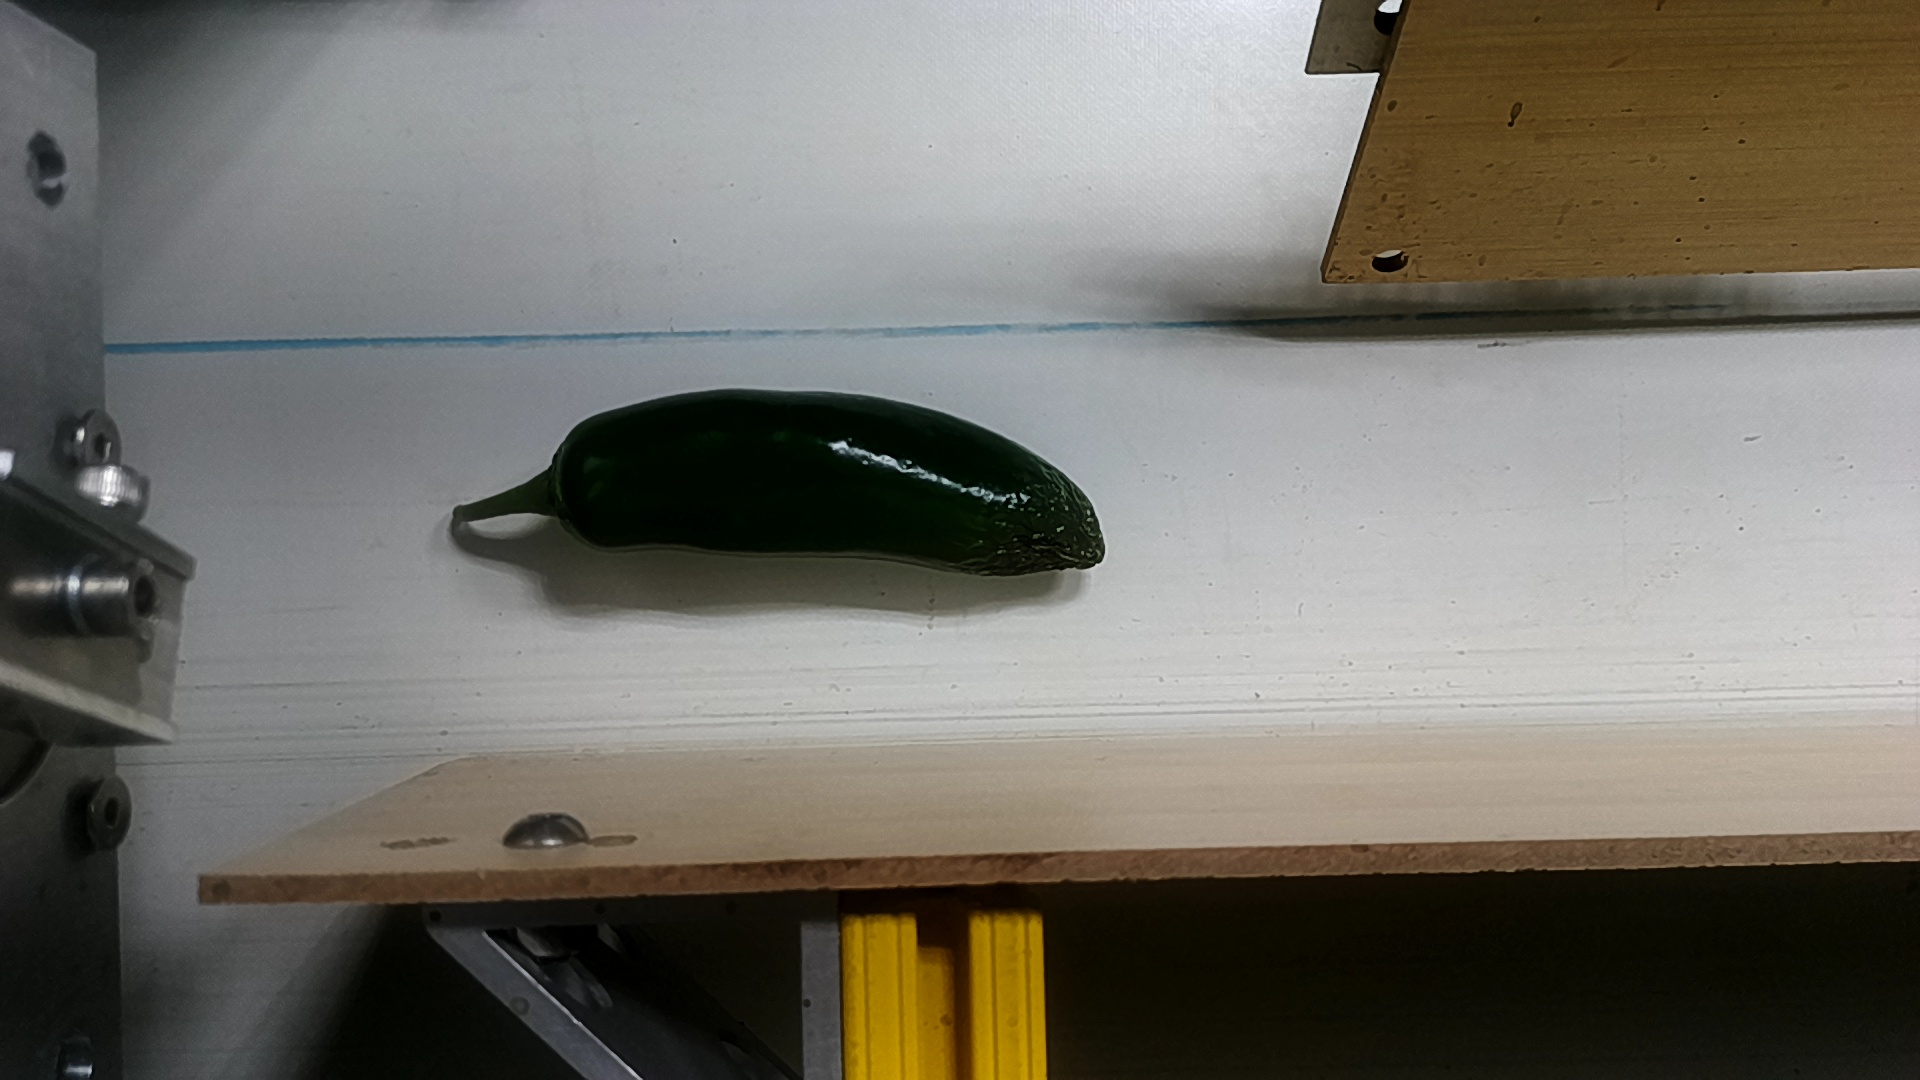Cut Point: (527, 405, 624, 558)
